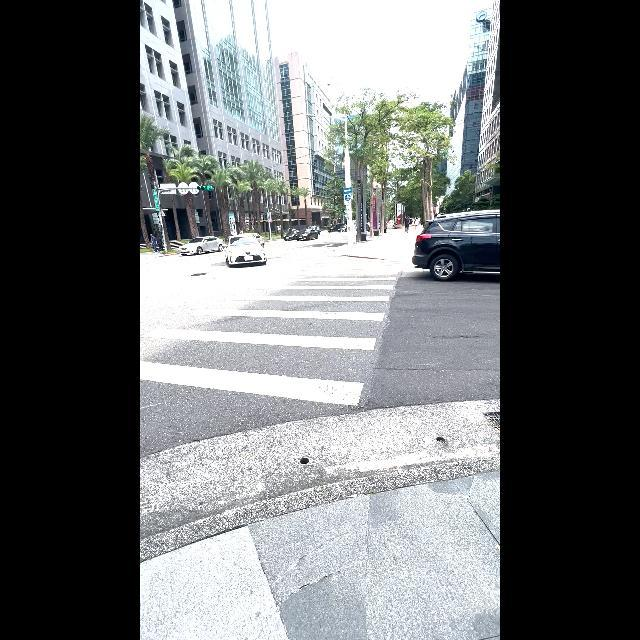sidewalk: (140, 266, 400, 422)
